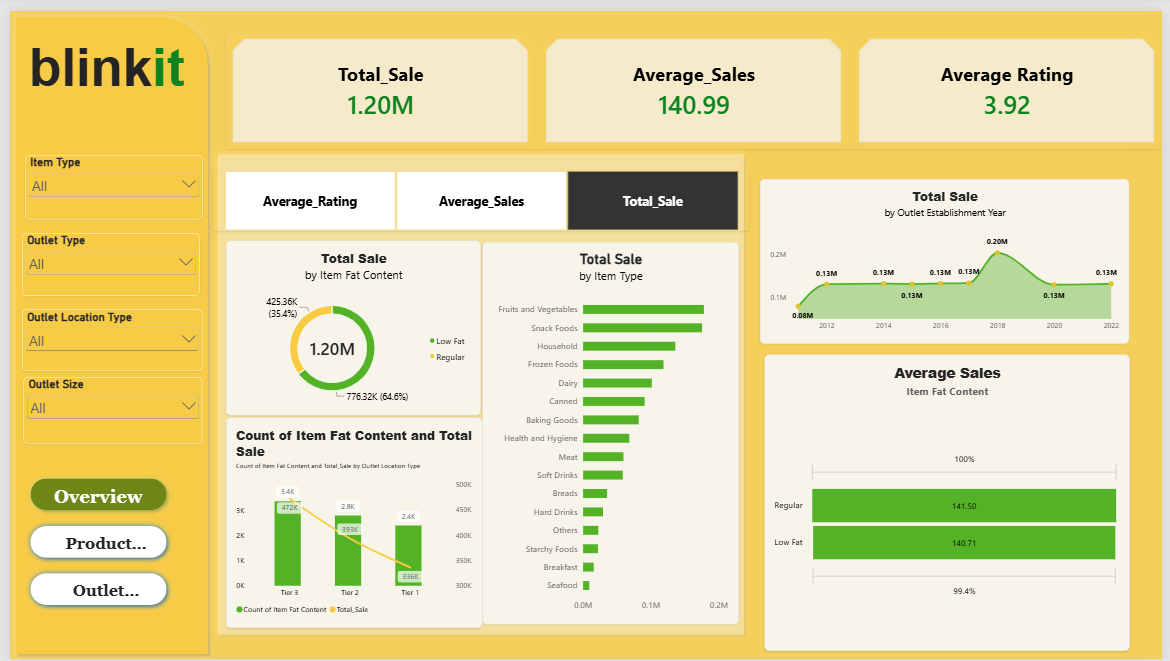

Layout of this report page (visuals, bound fields, positions):
{"tool":"powerbi","page":{"name":"Overview","canvas":[1920,1080],"ordinal":0},"visuals":[{"type":"group","id":"g1","title":"Group 5","box":[0,0,338.8,1080.8],"z":0,"group":"g6"},{"type":"cardVisual","fields":{"Data":["DAX Measure.Total_Sale","DAX Measure.Average_Sales","DAX Measure.Average_Rating"]},"box":[360.3,35.8,1560.4,195.6],"z":0},{"type":"group","id":"g2","title":"Group 2","box":[337.8,230.9,894.7,818.4],"z":0,"group":"g4"},{"type":"group","id":"g3","title":"Group 1","box":[337.8,230.9,894.7,818.4],"z":0,"group":"g2"},{"type":"shape","box":[337.8,230.9,894.7,818.4],"z":0,"group":"g3"},{"type":"group","id":"g4","title":"Group 3","box":[337.8,230.9,1527.4,837.6],"z":1000},{"type":"group","id":"g5","title":"Group 4","box":[19.5,241,301.4,481.9],"z":1000,"group":"g6"},{"type":"slicer","fields":{"Values":["Metrics.Metrics"]},"box":[337.8,265.6,894.7,101.7],"z":1000,"group":"g3"},{"type":"areaChart","title":"Total Sale","fields":{"Category":["BlinkIT Grocery Data.Outlet Establishment Year"],"Y":["DAX Measure.Total_Sale"]},"box":[1249.7,281.1,615.6,274.4],"z":1000,"group":"g4"},{"type":"donutChart","title":"Total Sale","fields":{"Y":["DAX Measure.Total_Sale"],"Category":["BlinkIT Grocery Data.Item Fat Content"]},"box":[360.3,384.1,424.7,291.1],"z":1000,"group":"g2"},{"type":"group","id":"g6","title":"Group 6","box":[0,0,338.8,1080.8],"z":2000},{"type":"clusteredBarChart","title":"Total Sale","fields":{"Y":["DAX Measure.Total_Sale"],"Category":["BlinkIT Grocery Data.Item Type"]},"box":[787.3,386.5,427.1,637],"z":2000,"group":"g2"},{"type":"funnel","title":"Average Sales","fields":{"Category":["BlinkIT Grocery Data.Item Fat Content"],"Y":["DAX Measure.Average_Sales"]},"box":[1256.8,574.6,608.4,493.9],"z":2000,"group":"g4"},{"type":"slicer","fields":{"Values":["BlinkIT Grocery Data.Item Type"]},"box":[25.1,241,295.9,107.4],"z":3000,"group":"g5"},{"type":"lineStackedColumnComboChart","title":"Count of Item Fat Content and Total Sale","fields":{"Y2":["DAX Measure.Total_Sale"],"Category":["BlinkIT Grocery Data.Outlet Location Type"],"Y":["CountNonNull(BlinkIT Grocery Data.Item Fat Content)"]},"box":[359.7,677.2,427.1,350.7],"z":3000,"group":"g2"},{"type":"pageNavigator","box":[26.2,770.7,245.7,229],"z":3000},{"type":"slicer","fields":{"Values":["BlinkIT Grocery Data.Outlet Type"]},"box":[20.3,372.2,295.9,105],"z":4000,"group":"g5"},{"type":"slicer","fields":{"Values":["BlinkIT Grocery Data.Outlet Location Type"]},"box":[19.5,498.6,300.6,102.6],"z":5000,"group":"g5"},{"type":"slicer","fields":{"Values":["BlinkIT Grocery Data.Outlet Size"]},"box":[22.7,610.7,298.2,112.1],"z":6000,"group":"g5"},{"type":"shape","box":[0,0,338.8,1080.8],"z":11002,"group":"g1"},{"type":"textbox","box":[0,45.3,322.1,109.8],"z":11503,"group":"g1"}]}

Visuals, with their boxes in screenshot pixels (x1, y1, x2, y2), scaled from the page's 1920x1080 canvas onto the 1170x661 screenshot:
"Group 5" group: (x1=0, y1=0, x2=206, y2=660)
cardVisual - DAX Measure.Total_Sale x DAX Measure.Average_Sales: (x1=220, y1=22, x2=1169, y2=142)
"Group 2" group: (x1=206, y1=141, x2=751, y2=642)
"Group 1" group: (x1=206, y1=141, x2=751, y2=642)
shape: (x1=206, y1=141, x2=751, y2=642)
"Group 3" group: (x1=206, y1=141, x2=1137, y2=654)
"Group 4" group: (x1=12, y1=148, x2=196, y2=442)
slicer - Metrics.Metrics: (x1=206, y1=163, x2=751, y2=225)
"Total Sale" areaChart: (x1=762, y1=172, x2=1137, y2=340)
"Total Sale" donutChart: (x1=220, y1=235, x2=478, y2=413)
"Group 6" group: (x1=0, y1=0, x2=206, y2=660)
"Total Sale" clusteredBarChart: (x1=480, y1=237, x2=740, y2=626)
"Average Sales" funnel: (x1=766, y1=352, x2=1137, y2=654)
slicer - BlinkIT Grocery Data.Item Type: (x1=15, y1=148, x2=196, y2=213)
"Count of Item Fat Content and Total Sale" lineStackedColumnComboChart: (x1=219, y1=414, x2=479, y2=629)
pageNavigator: (x1=16, y1=472, x2=166, y2=612)
slicer - BlinkIT Grocery Data.Outlet Type: (x1=12, y1=228, x2=193, y2=292)
slicer - BlinkIT Grocery Data.Outlet Location Type: (x1=12, y1=305, x2=195, y2=368)
slicer - BlinkIT Grocery Data.Outlet Size: (x1=14, y1=374, x2=196, y2=442)
shape: (x1=0, y1=0, x2=206, y2=660)
textbox: (x1=0, y1=28, x2=196, y2=95)
